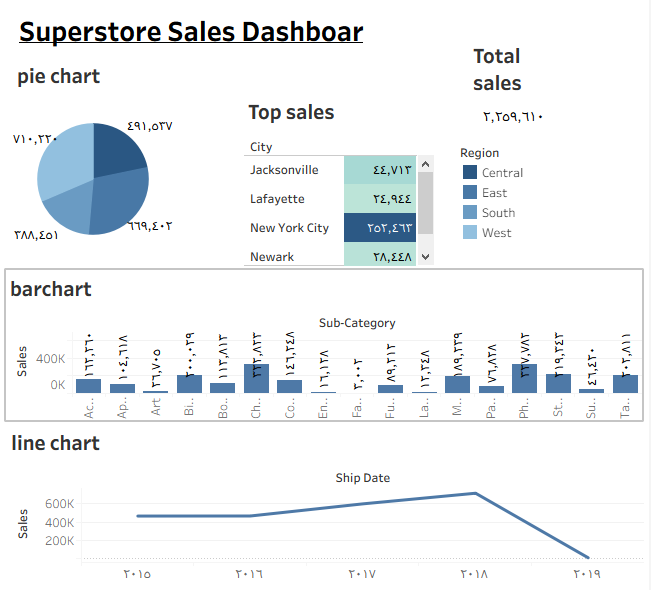

What the dashboard file says about the page in this screenshot:
{"tool":"tableau","page":{"name":"Dashboard 1","canvas":[650,860],"ordinal":0},"visuals":[{"type":"text","box":[4,10.1,377,75.4]},{"type":"worksheet","title":"Sheet 7","mark":"Automatic","box":[470,58,154,139.2]},{"type":"worksheet","title":"Sheet 6","mark":"Pie","box":[14,87,215,300.2]},{"type":"worksheet","title":"Sheet 4","mark":"Square","rows":["City"],"box":[245,139.2,195,250.9]},{"type":"legend","title":"Sheet 6","param":"[federated.0hrn4du15o9oqm16uz2l619mgjci].[none:Region:nk]","box":[461,213.2,184,146.5]},{"type":"worksheet","title":"Sheet 2","mark":"Automatic","rows":["Sales"],"cols":["Sub-Category"],"box":[7,395.9,636,217.5]},{"type":"worksheet","title":"Sheet 3","mark":"Automatic","rows":["Sales"],"cols":["Ship Date"],"box":[8,619.3,637,230.6]}]}

Visuals, with their boxes on the page's 650x860 design canvas (x1, y1, x2, y2). These are canvas units, not pixel positions in the 651x590 screenshot, which may show the page scaled, cropped or inside an application window:
text: x1=4, y1=10, x2=381, y2=86
"Sheet 7" worksheet: x1=470, y1=58, x2=624, y2=197
"Sheet 6" worksheet (Pie marks): x1=14, y1=87, x2=229, y2=387
"Sheet 4" worksheet (Square marks): x1=245, y1=139, x2=440, y2=390
"Sheet 6" legend: x1=461, y1=213, x2=645, y2=360
"Sheet 2" worksheet: x1=7, y1=396, x2=643, y2=613
"Sheet 3" worksheet: x1=8, y1=619, x2=645, y2=850
